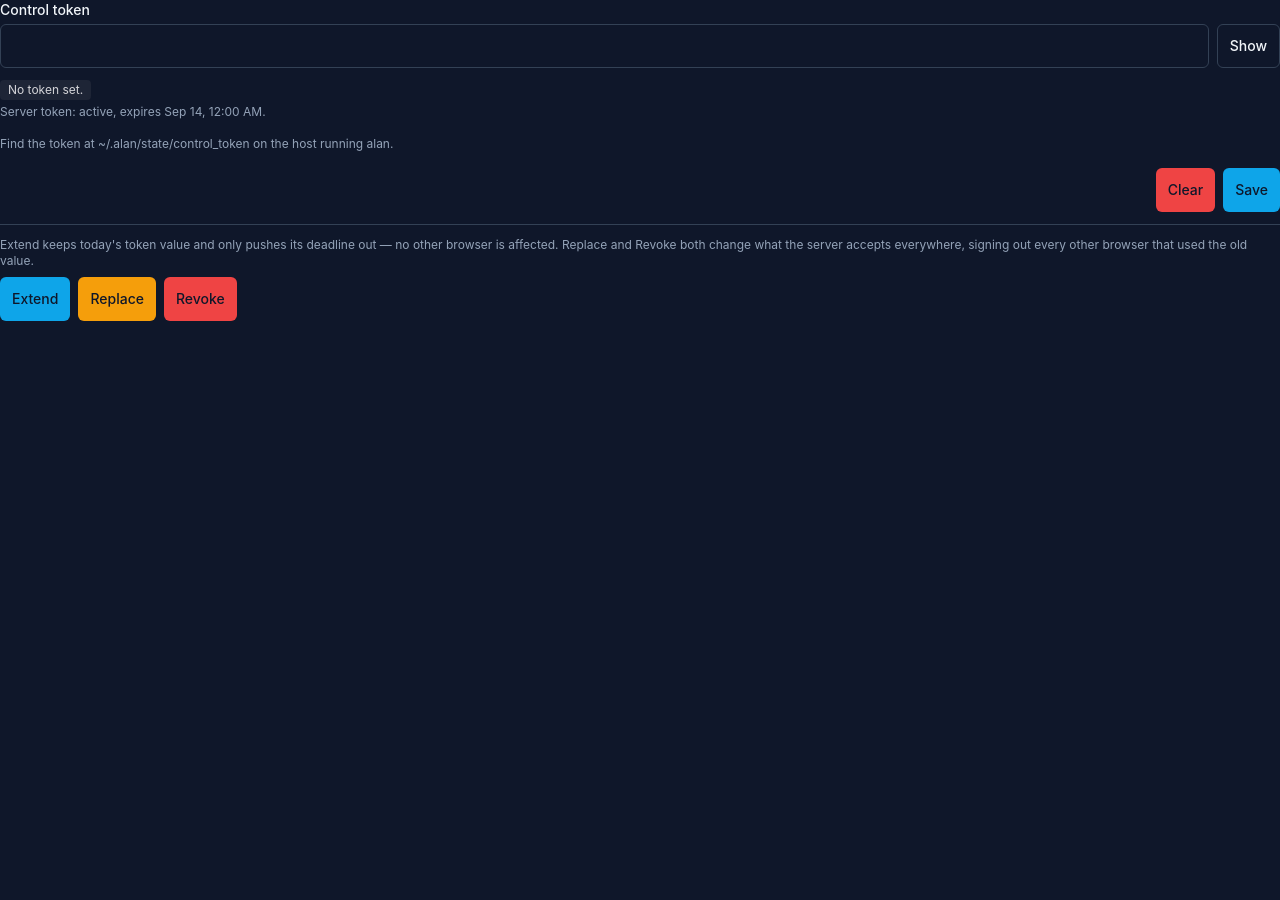
Test case: ControlTokenSection › Revoke is framed as destructive (destroy-red confirm) and, once confirmed, leaves no replacement
The image size is (1280, 900).
Step 1. Click the button with test id "control-token-revoke" → (200, 299), box x1=164 y1=277 x2=237 y2=321
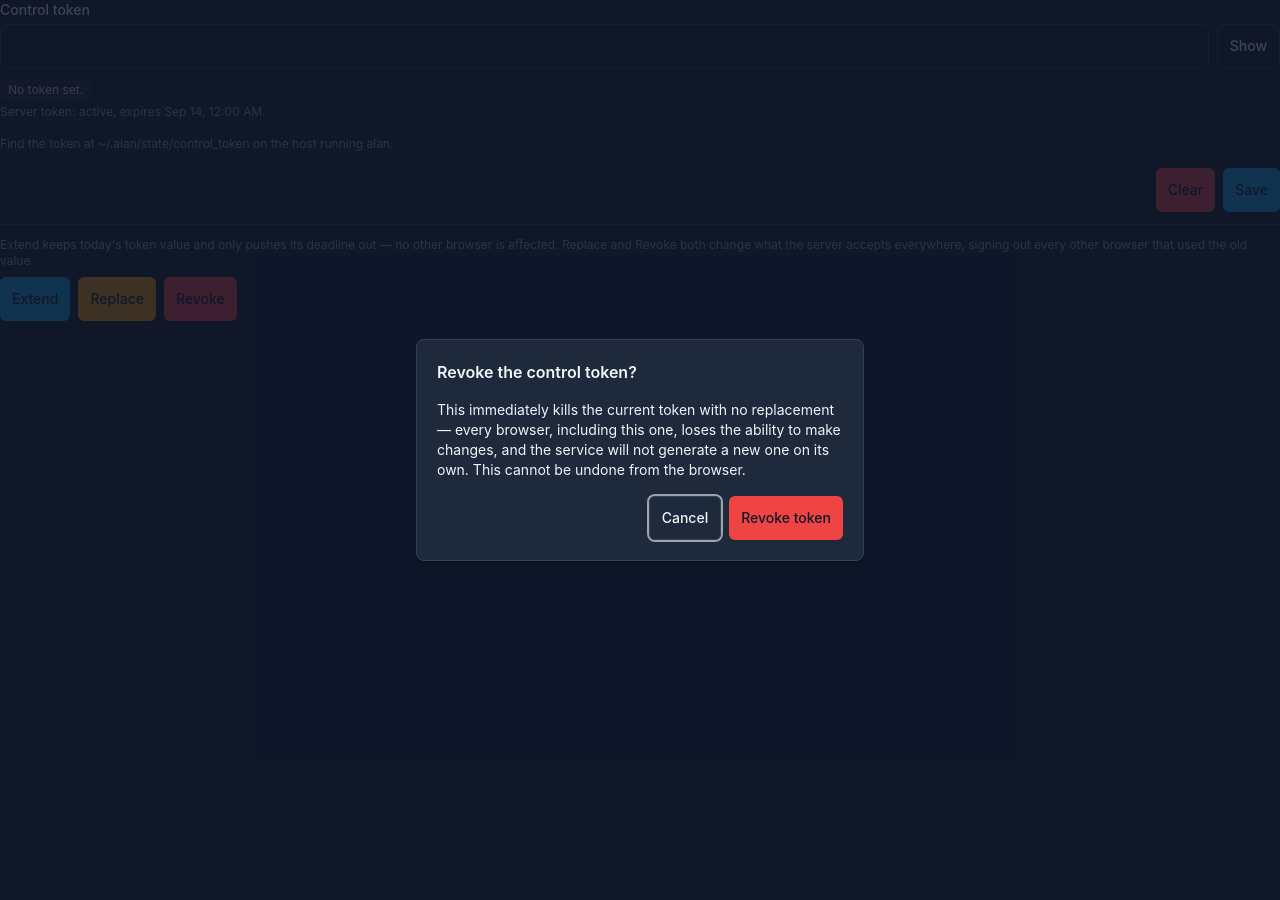
Expected: the dialog with test id "control-token-revoke-confirm" shows "no replacement", x1=437 y1=401 x2=841 y2=478
Expected: the dialog with test id "control-token-revoke-confirm" shows "including this one", x1=437 y1=401 x2=841 y2=478
Step 2. Click the button "Revoke token" → (786, 518), box x1=729 y1=496 x2=843 y2=540
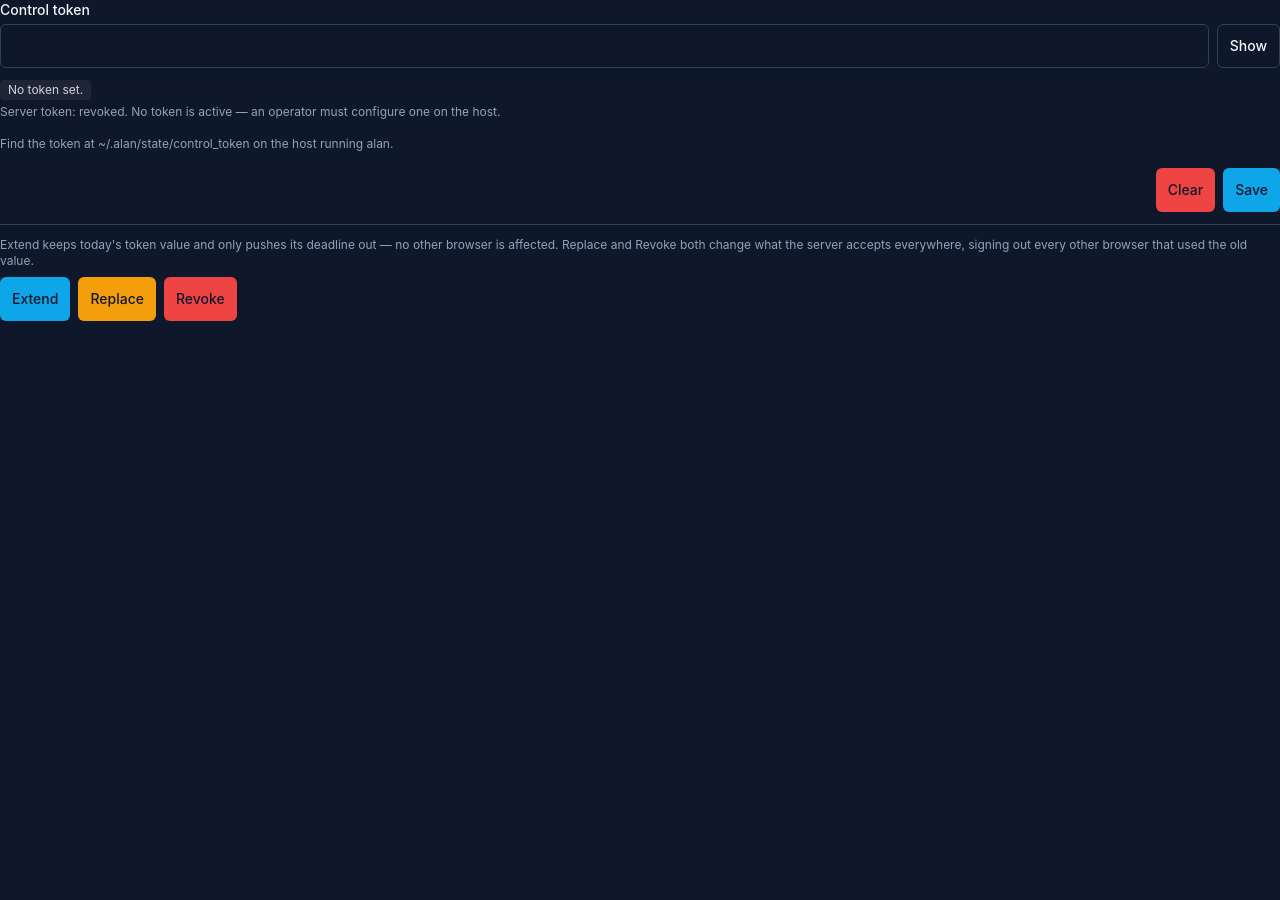
Expected: the message with test id "control-token-server-status" shows "revoked", x1=0 y1=104 x2=500 y2=119
